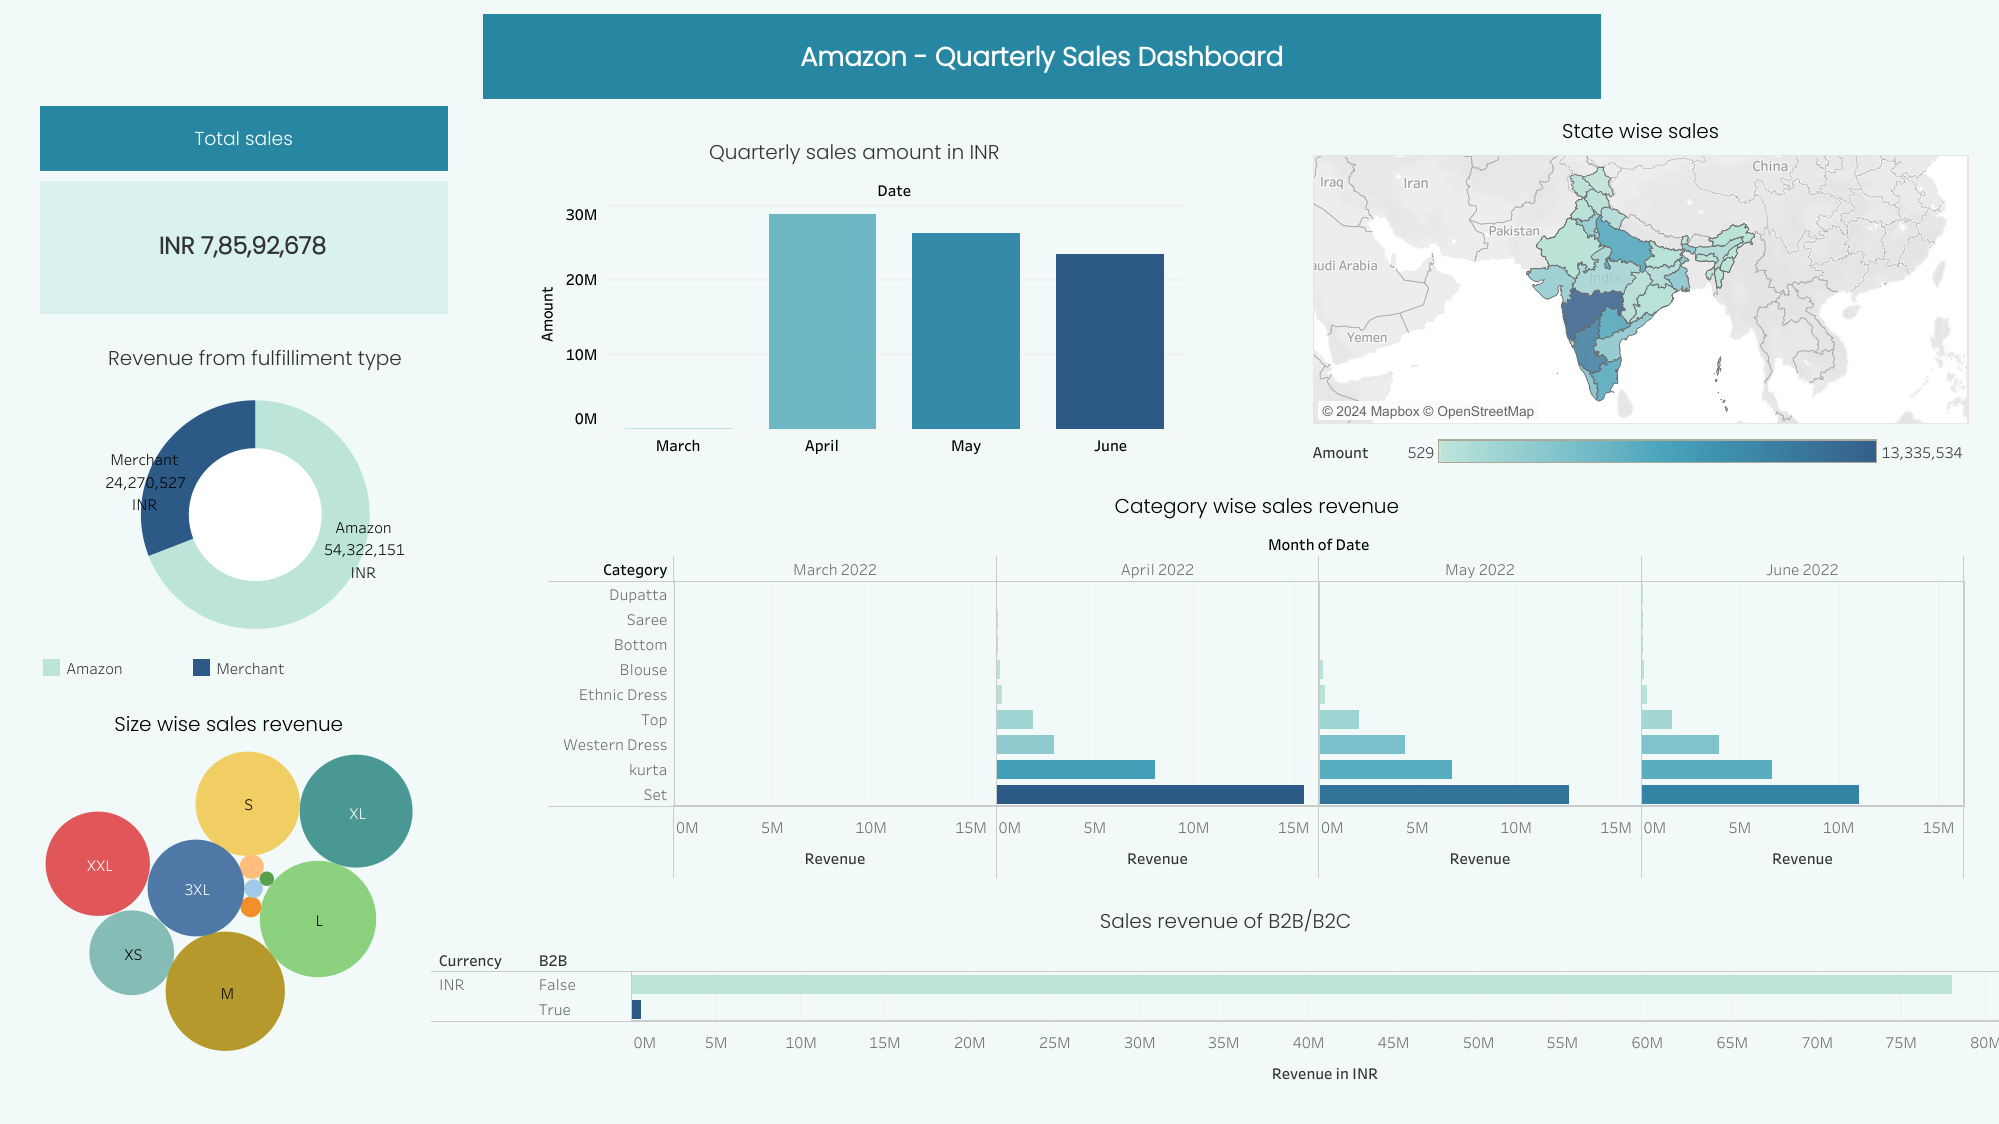

The dashboard page shown, as its layout file describes it:
{"tool":"tableau","page":{"name":"Dashboard 1","canvas":[1600,900],"ordinal":0},"visuals":[{"type":"text","box":[382,7,903,76]},{"type":"text","box":[28,81,334,60]},{"type":"text","box":[1046,89,533,32]},{"type":"worksheet","title":"q1","mark":"Bar","rows":["Amount"],"cols":["Date"],"box":[417,100,533,269]},{"type":"worksheet","title":"q2","mark":"Automatic","box":[1046,121,533,223]},{"type":"blank","box":[28,141,334,114]},{"type":"text","box":[36,147,316,98]},{"type":"worksheet","title":"q5","mark":"Pie","rows":["Calculation_1455507161909645313","Calculation_1455507161909657603"],"box":[27,265,354,255]},{"type":"legend","title":"q2","param":"[federated.1s7hm1t14xrz2l1aqveig1o7nyjy].[sum:Amount:qk]","box":[1046,344,533,32]},{"type":"worksheet","title":"q3","mark":"Bar","rows":["Category"],"cols":["Date","Amount"],"box":[435,383,1141,339]},{"type":"legend","title":"q5","param":"[federated.1s7hm1t14xrz2l1aqveig1o7nyjy].[none:Fulfilment:nk]","box":[27,520,354,32]},{"type":"worksheet","title":"q4","mark":"Circle","box":[30,558,403,287]}]}

Visuals, with their boxes in screenshot pixels (x1, y1, x2, y2), scaled from the page's 1600x900 canvas onto the 1999x1124 screenshot:
text: pyautogui.locateOnScreen(477, 9, 1605, 104)
text: pyautogui.locateOnScreen(35, 101, 452, 176)
text: pyautogui.locateOnScreen(1307, 111, 1973, 151)
"q1" worksheet (Bar marks): pyautogui.locateOnScreen(521, 125, 1187, 461)
"q2" worksheet: pyautogui.locateOnScreen(1307, 151, 1973, 430)
blank: pyautogui.locateOnScreen(35, 176, 452, 318)
text: pyautogui.locateOnScreen(45, 184, 440, 306)
"q5" worksheet (Pie marks): pyautogui.locateOnScreen(34, 331, 476, 649)
"q2" legend: pyautogui.locateOnScreen(1307, 430, 1973, 470)
"q3" worksheet (Bar marks): pyautogui.locateOnScreen(543, 478, 1969, 902)
"q5" legend: pyautogui.locateOnScreen(34, 649, 476, 689)
"q4" worksheet (Circle marks): pyautogui.locateOnScreen(37, 697, 541, 1055)
